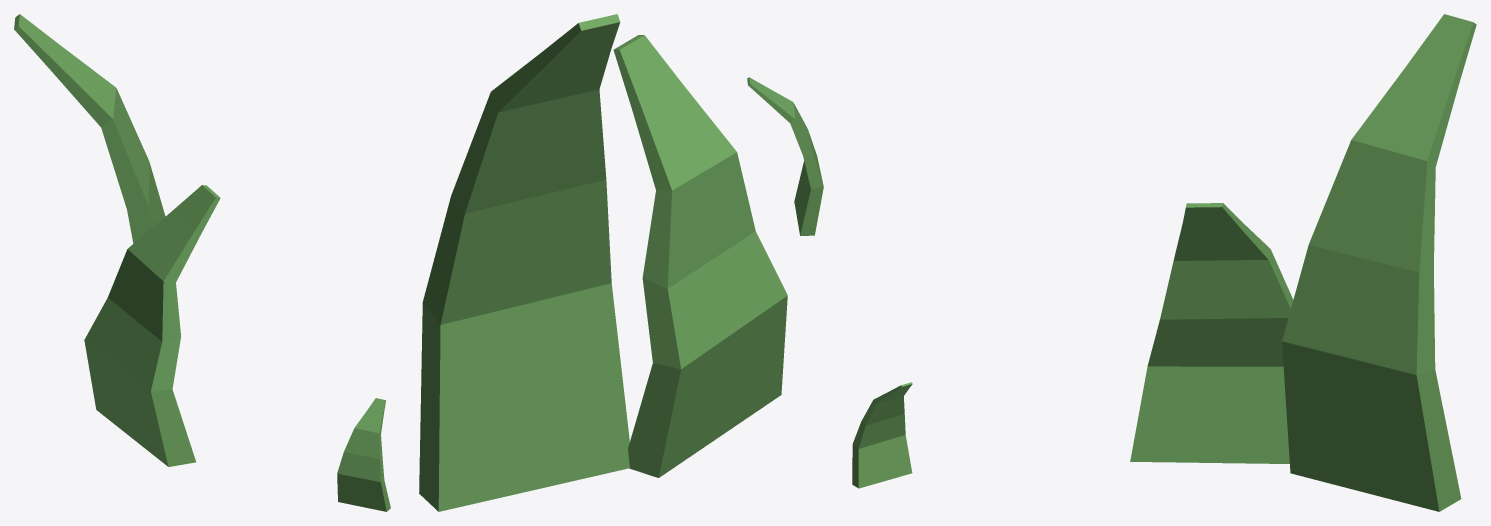
File: grass3.gltf
The picture shows the model from 3 angles, left to right: view 1: azimuth 30°, elevation 25°; view 2: azimuth 150°, elevation 25°; view 3: azimuth 270°, elevation 25°; orthographic projection. The views are drawn at different scales.
Parts seen in each view (by area): view 1: grass3; view 2: grass3; view 3: grass3.
Boxes of the visible parts, box(x1,y1,x2,y2) form: grass3: box(14, 14, 390, 511); grass3: box(419, 14, 823, 511); grass3: box(852, 14, 1476, 511).
Size of the model in its own units: 0.9748 by 2.27 by 3.06.
